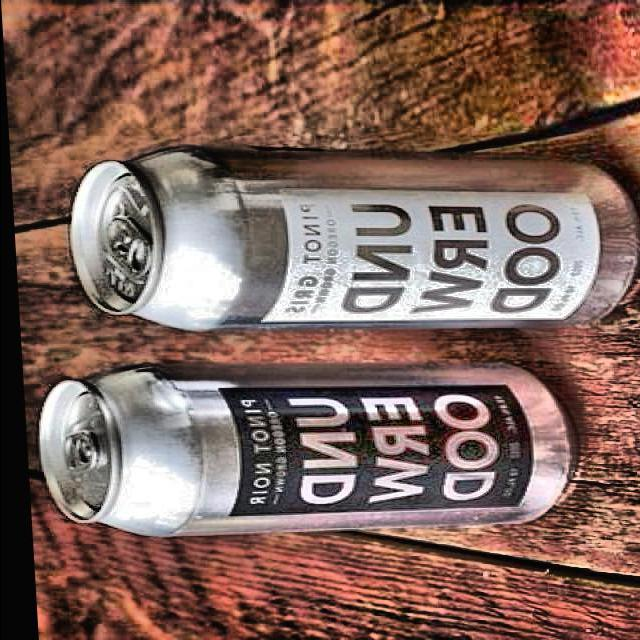litter: (19, 355, 586, 547), (55, 147, 640, 331)
